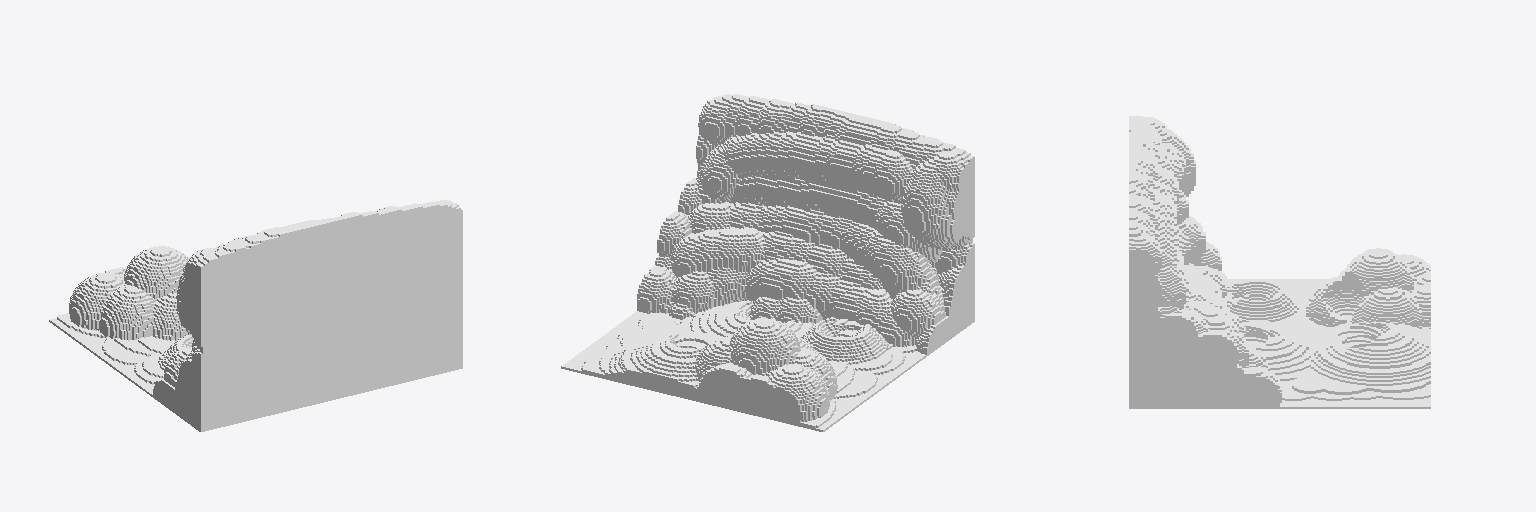
File: Ext_LunarBorder1.obj
3 renders of one model, left to right at view 1: azimuth 30°, elevation 25°; view 2: azimuth 150°, elevation 25°; view 3: azimuth 270°, elevation 25°, orthographic.
Size of the model in its own units: 126 by 82 by 126.